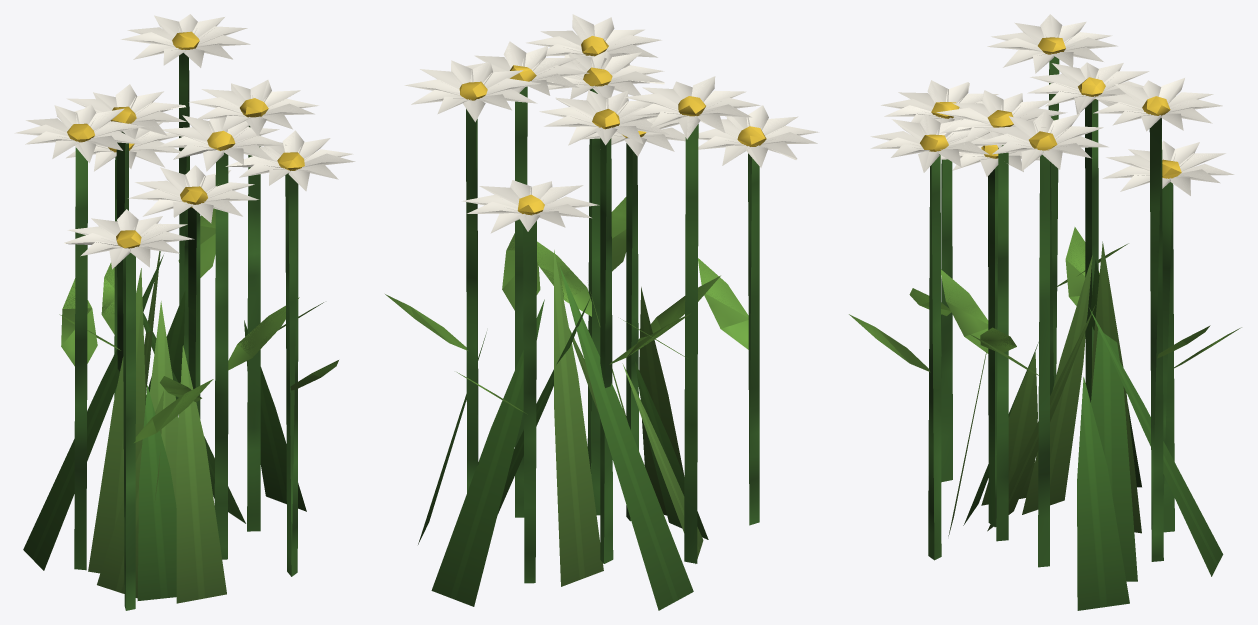
The model's file is SM_Flowers_Daisy_LOD1.gltf.
3 views of the same model, side by side, from view 1: azimuth 30°, elevation 25°; view 2: azimuth 150°, elevation 25°; view 3: azimuth 270°, elevation 25° (orthographic). The views are drawn at different scales.
Visible parts, largest first — view 1: SM_Flowers_Daisy_LOD1; view 2: SM_Flowers_Daisy_LOD1; view 3: SM_Flowers_Daisy_LOD1.
Part boxes in pixels (<box>): SM_Flowers_Daisy_LOD1: <box>14,14,355,610</box>; SM_Flowers_Daisy_LOD1: <box>385,14,819,610</box>; SM_Flowers_Daisy_LOD1: <box>849,14,1241,610</box>.
Bounding box in the file's own units: 0.283 × 0.4238 × 0.3218.
1 material, 1 textured.
